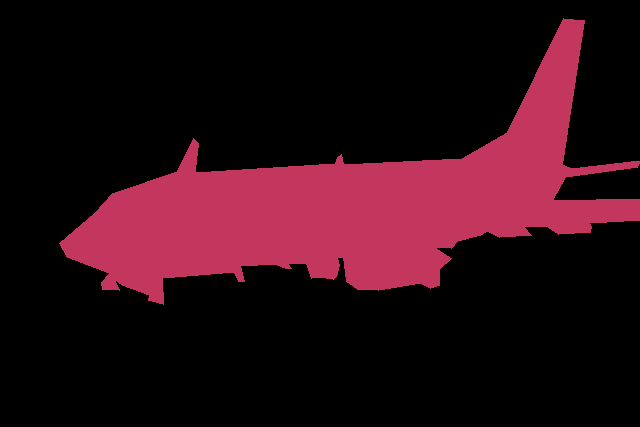Airplane: (59, 18, 640, 304)
